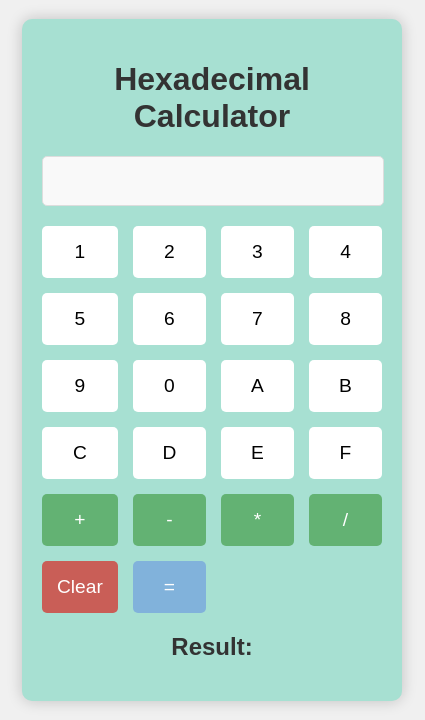
Test: template spec › Addition1
Click the button "6" at (170, 319), box x1=133 y1=293 x2=206 y2=345
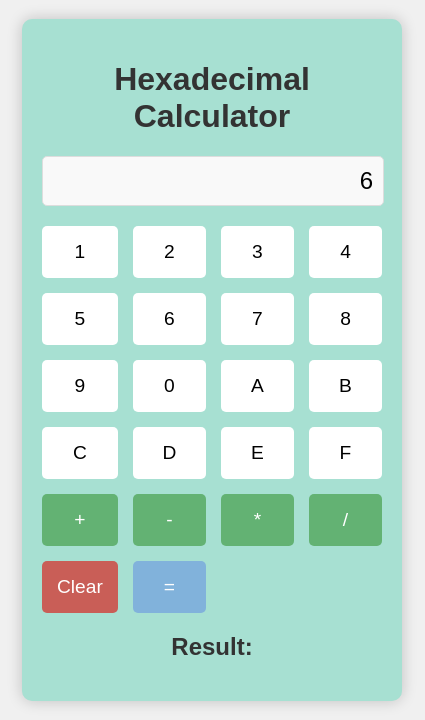
Click the button "+" at (80, 520), box x1=42 y1=494 x2=118 y2=546
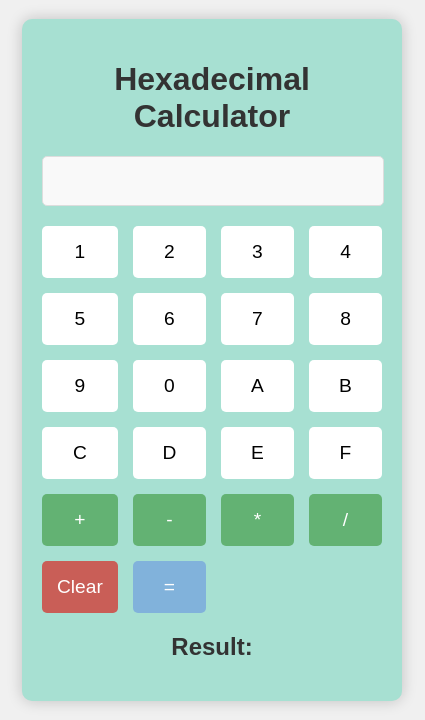
Click the button "F" at (346, 453), box x1=309 y1=427 x2=382 y2=479
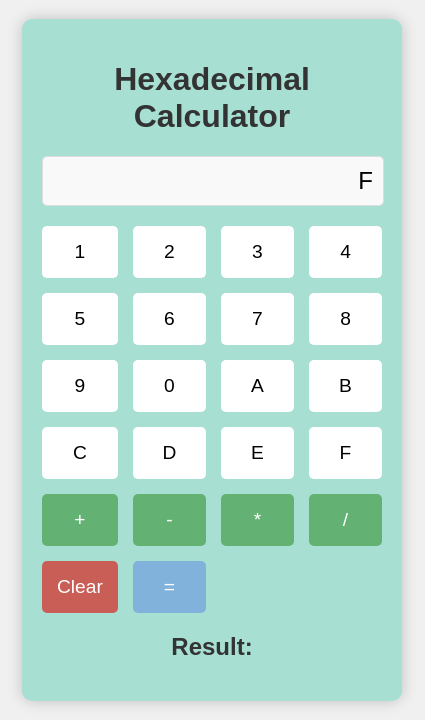
Click the button "=" at (170, 587), box x1=133 y1=561 x2=206 y2=613
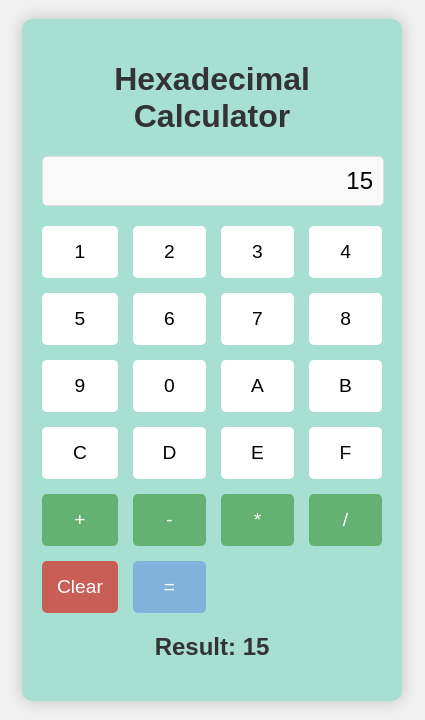
Result: the field holds "15" at x1=42 y1=156 x2=384 y2=206
